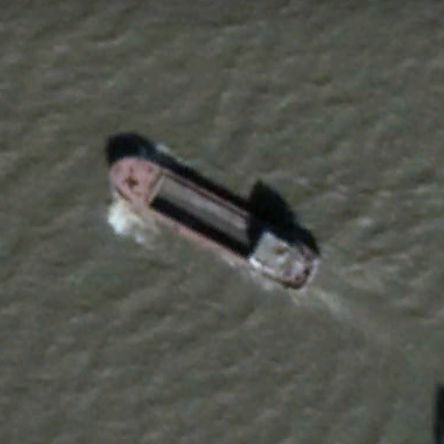boat: (103, 153, 320, 299)
